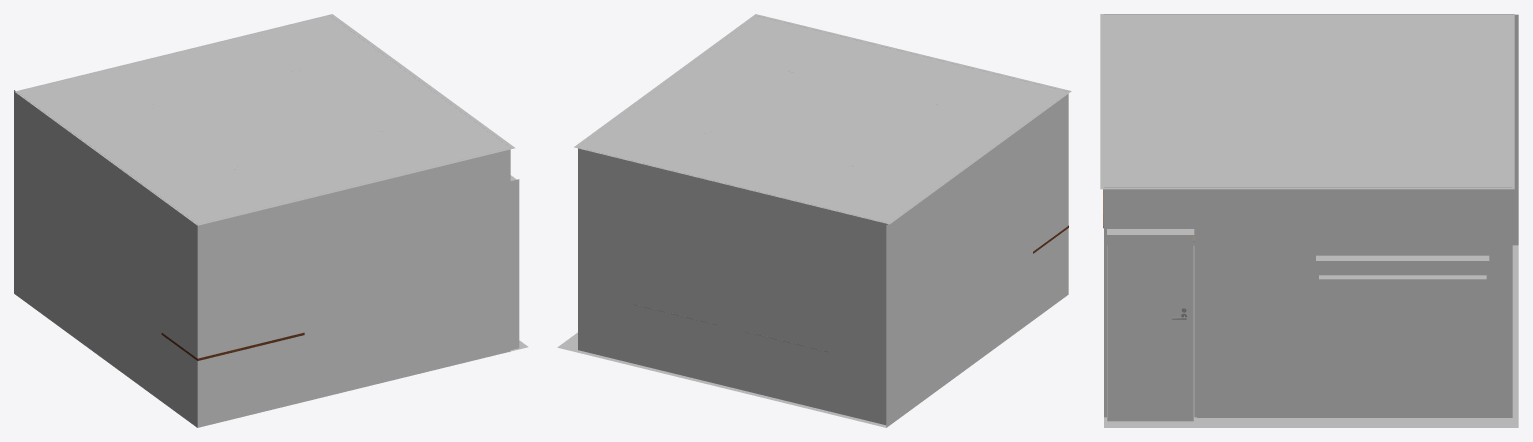
Rendered from fukuya.dae.
3 views of the same model, side by side, from view 1: azimuth 30°, elevation 25°; view 2: azimuth 150°, elevation 25°; view 3: azimuth 270°, elevation 25° (orthographic). The views are drawn at different scales.
Visible parts, largest first — view 1: sennyu_tex1; view 2: sennyu_tex1; view 3: sennyu_tex1, Door_rouka_to_sennyu.
Part boxes in pixels (x1,y1,x2,y2): sennyu_tex1: (14, 14, 528, 427); sennyu_tex1: (557, 14, 1071, 427); sennyu_tex1: (1100, 14, 1518, 427); Door_rouka_to_sennyu: (1107, 235, 1193, 421).
Size of the model in its own units: 376 by 222 by 362.
